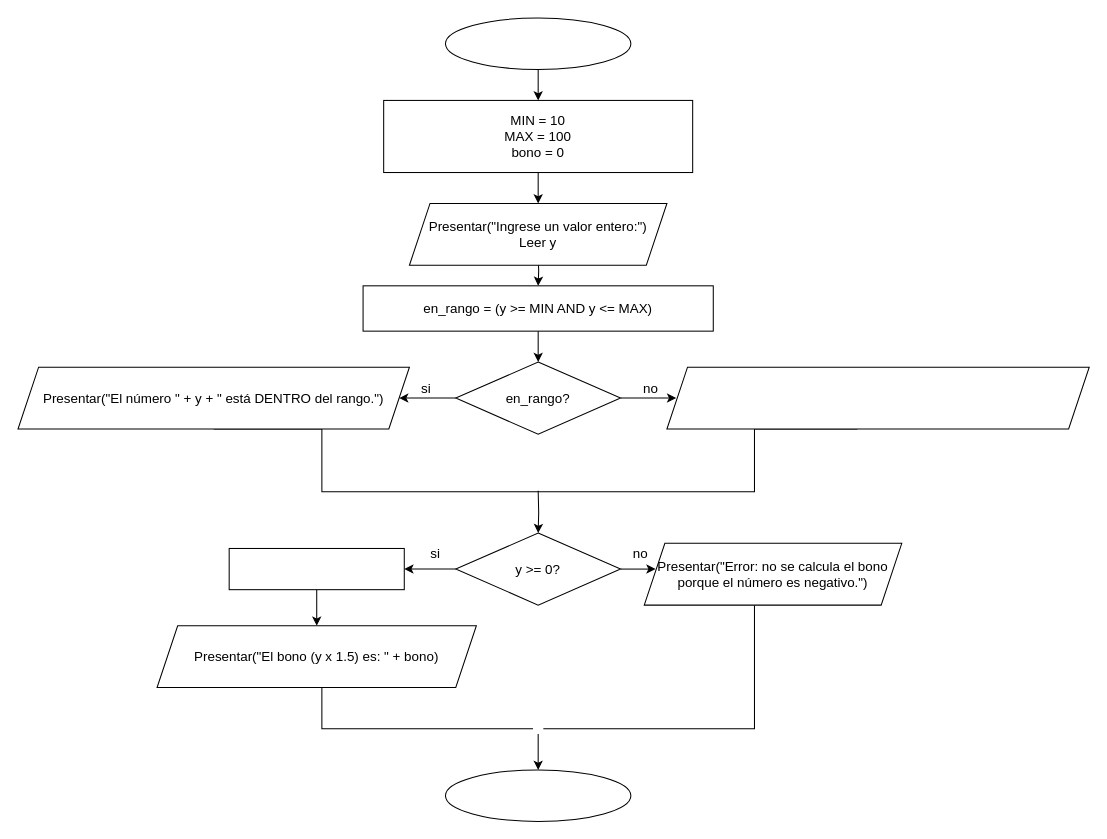
Some shapes in this 1107 by 839 pixel diagram are drawn without their labels. Here are the shapes that lost their labels. From the top down, the centre of each, then its label:
[537,43]: inicio
[877,397]: Presentar("El número " + y + " está FUERA del rango.")
[316,568]: bono = y * 1.5
[537,795]: fin
